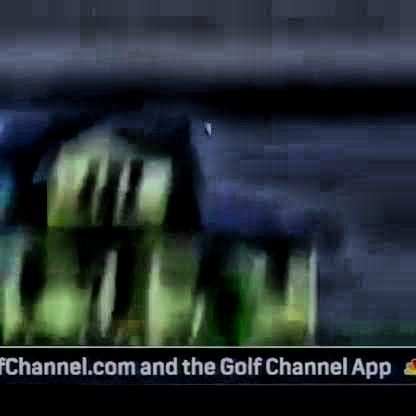golfball: (203, 119, 210, 130)
